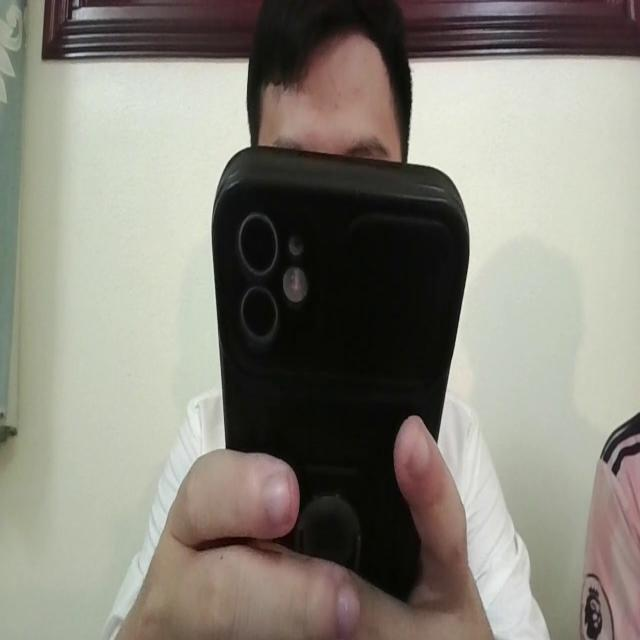phone: (211, 142, 471, 608)
student: (92, 0, 550, 640)
